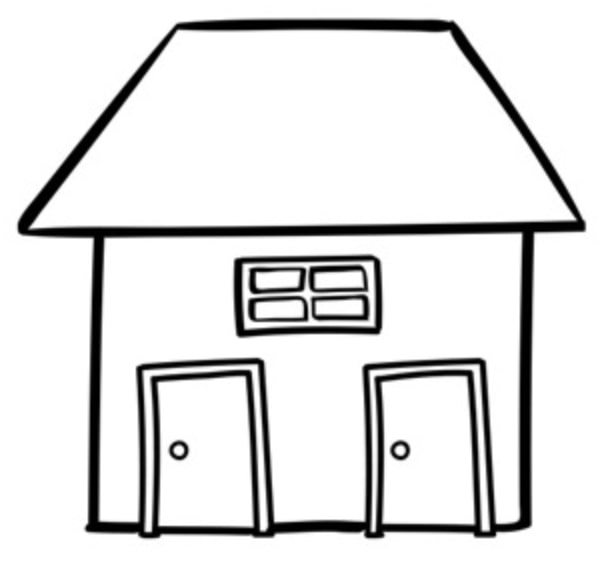House: (18, 10, 597, 540)
